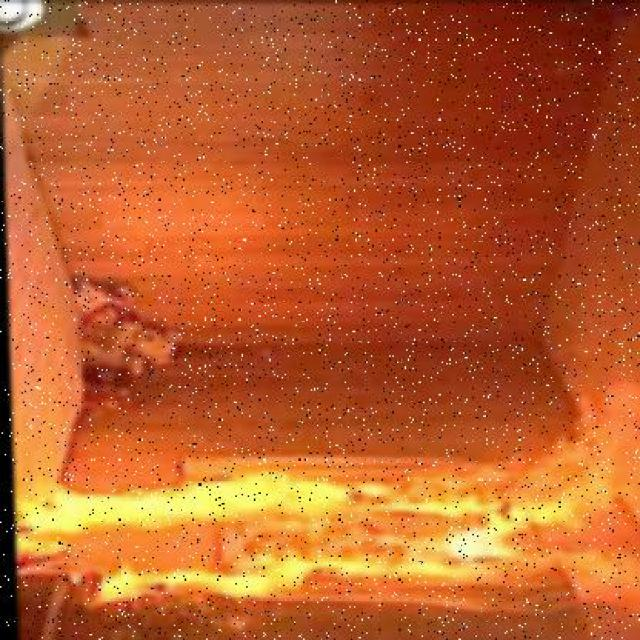fire: (14, 465, 633, 626)
